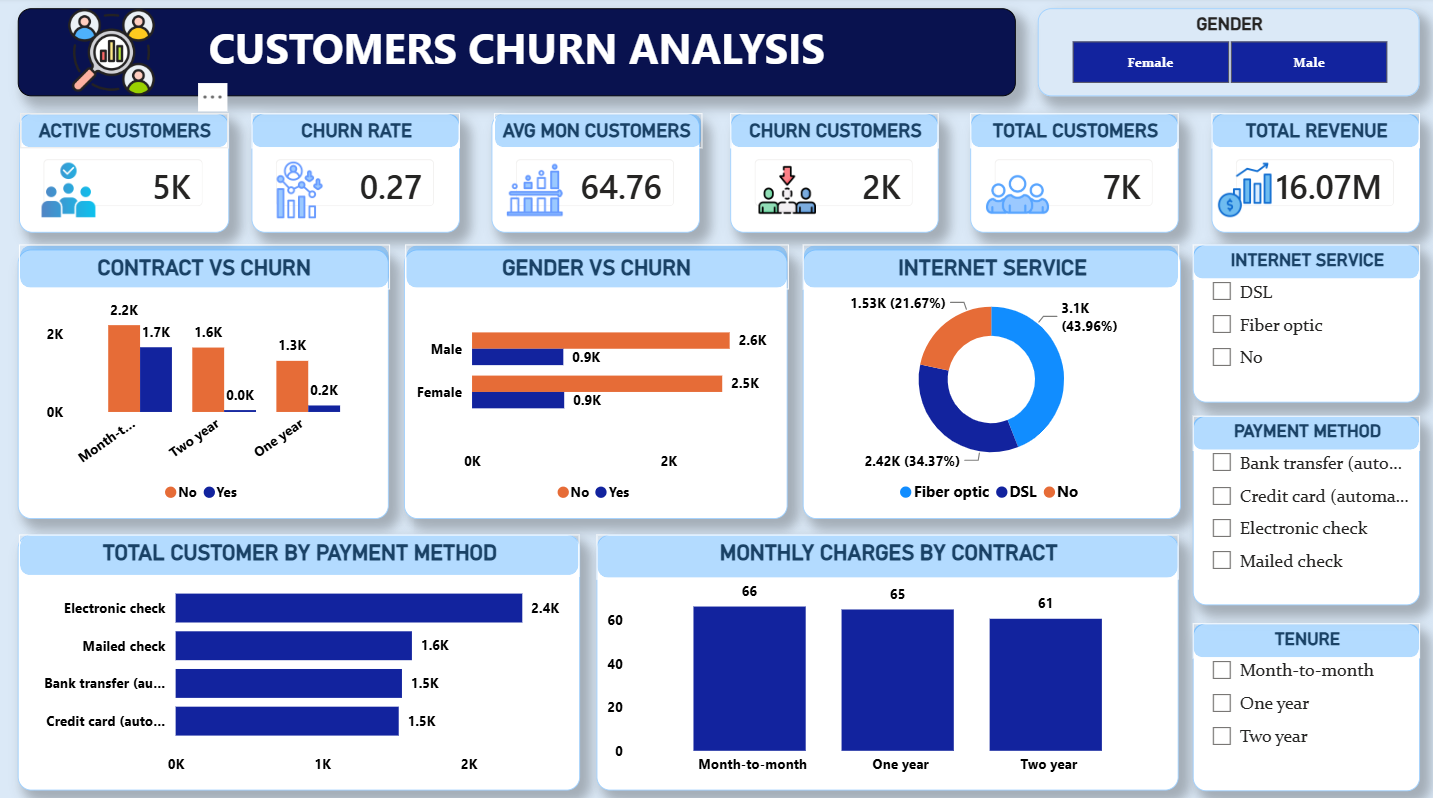

The page's visual inventory and layout, read from the dashboard file:
{"tool":"powerbi","page":{"name":"Page 1","canvas":[1280,720],"ordinal":0},"visuals":[{"type":"cardVisual","title":"ACTIVE CUSTOMERS","fields":{"Data":["customer_churn_clean.Active Customers"]},"box":[18.1,103.8,187,106.2],"z":0},{"type":"cardVisual","title":"CHURN RATE","fields":{"Data":["customer_churn_clean.Churn Rate %"]},"box":[224.4,103.8,185.8,106.2],"z":1000},{"type":"cardVisual","title":"AVG MON CUSTOMERS","fields":{"Data":["customer_churn_clean.Average Monthly Charges"]},"box":[439.1,103.8,185.8,106.2],"z":2000},{"type":"cardVisual","title":"CHURN CUSTOMERS","fields":{"Data":["customer_churn_clean.Churn Customers"]},"box":[651.5,103.8,185.8,106.2],"z":3000},{"type":"cardVisual","title":"TOTAL CUSTOMERS","fields":{"Data":["customer_churn_clean.Total Customers"]},"box":[865,103.8,185.8,106.2],"z":4000},{"type":"cardVisual","title":"TOTAL REVENUE","fields":{"Data":["customer_churn_clean.Total Revenue"]},"box":[1079.8,103.8,185.8,106.2],"z":5000},{"type":"clusteredColumnChart","title":"CONTRACT VS CHURN","fields":{"Category":["customer_churn_clean.Contract"],"Series":["customer_churn_clean.Churn"],"Y":["Count(customer_churn_clean.customerID)"]},"box":[16.9,224.4,330.6,240.1],"z":6000},{"type":"clusteredBarChart","title":"GENDER VS CHURN","fields":{"Category":["customer_churn_clean.gender"],"Series":["customer_churn_clean.Churn"],"Y":["Count(customer_churn_clean.customerID)"]},"box":[360.7,224.4,341.4,240.1],"z":7000},{"type":"donutChart","title":"INTERNET SERVICE","fields":{"Category":["customer_churn_clean.InternetService"],"Y":["CountNonNull(customer_churn_clean.customerID)"]},"box":[715.4,224.4,336.6,240.1],"z":8000},{"type":"clusteredBarChart","title":"TOTAL CUSTOMER BY PAYMENT METHOD","fields":{"Category":["customer_churn_clean.PaymentMethod"],"Y":["CountNonNull(customer_churn_clean.customerID)"]},"box":[16.9,479,500.7,228],"z":9000},{"type":"clusteredColumnChart","title":"MONTHLY CHARGES BY CONTRACT","fields":{"Category":["customer_churn_clean.Contract"],"Y":["Avg(customer_churn_clean.MonthlyCharges)"]},"box":[532,479,518.8,228],"z":10000},{"type":"slicer","title":"GENDER","fields":{"Values":["customer_churn_clean.gender"]},"box":[925.3,9.7,340.2,78.4],"z":11000},{"type":"slicer","title":"TENURE","fields":{"Values":["customer_churn_clean.Contract"]},"box":[1062.9,557.4,202.7,149.6],"z":12000},{"type":"slicer","title":"INTERNET SERVICE","fields":{"Values":["customer_churn_clean.InternetService"]},"box":[1062.9,220.8,202.7,141.2],"z":13000},{"type":"slicer","title":"PAYMENT METHOD","fields":{"Values":["customer_churn_clean.PaymentMethod"]},"box":[1062.9,372.8,202.7,168.9],"z":14000},{"type":"textbox","box":[16.9,9.7,889.1,78.4],"z":15000},{"type":"shape","box":[18.1,220.8,330.6,39.8],"z":16000},{"type":"shape","title":"GENDER BY CHURN","box":[361.9,220.8,341.4,39.8],"z":17000},{"type":"shape","box":[715.4,220.8,335.4,39.8],"z":18000},{"type":"shape","box":[532,479,518.8,39.8],"z":19000},{"type":"shape","box":[18.1,479,499.5,37.4],"z":20000},{"type":"image","box":[32.6,146,59.1,51.9],"z":21000},{"type":"image","box":[873.5,146,66.4,60.3],"z":22000},{"type":"image","box":[672,146,59.1,51.9],"z":23000},{"type":"image","box":[447.6,146,59.1,51.9],"z":24000},{"type":"image","box":[237.7,146,59.1,51.9],"z":25000},{"type":"image","box":[1079.8,146,59.1,51.9],"z":26000},{"type":"shape","box":[1062.9,220.8,202.7,31.4],"z":27000},{"type":"shape","box":[1062.9,372.8,202.7,31.4],"z":28000},{"type":"shape","box":[1062.9,557.4,202.7,31.4],"z":29000},{"type":"image","box":[18.1,9.7,164.1,78.4],"z":30000},{"type":"shape","box":[1079.8,103.8,185.8,31.4],"z":31000},{"type":"shape","box":[19.3,103.8,185.8,31.4],"z":32000},{"type":"shape","box":[865,103.8,185.8,31.4],"z":33000},{"type":"shape","box":[440.4,103.8,185.8,31.4],"z":34000},{"type":"shape","box":[651.5,103.8,185.8,31.4],"z":35000},{"type":"shape","box":[224.4,103.8,185.8,31.4],"z":36000}]}

Visuals, with their boxes in screenshot pixels (x1, y1, x2, y2), scaled from the page's 1280x720 canvas onto the 1433x798 screenshot:
"ACTIVE CUSTOMERS" cardVisual: 20 115 230 233
"CHURN RATE" cardVisual: 251 115 459 233
"AVG MON CUSTOMERS" cardVisual: 492 115 700 233
"CHURN CUSTOMERS" cardVisual: 729 115 937 233
"TOTAL CUSTOMERS" cardVisual: 968 115 1176 233
"TOTAL REVENUE" cardVisual: 1209 115 1417 233
"CONTRACT VS CHURN" clusteredColumnChart: 19 249 389 515
"GENDER VS CHURN" clusteredBarChart: 404 249 786 515
"INTERNET SERVICE" donutChart: 801 249 1178 515
"TOTAL CUSTOMER BY PAYMENT METHOD" clusteredBarChart: 19 531 579 784
"MONTHLY CHARGES BY CONTRACT" clusteredColumnChart: 596 531 1176 784
"GENDER" slicer: 1036 11 1417 98
"TENURE" slicer: 1190 618 1417 784
"INTERNET SERVICE" slicer: 1190 245 1417 401
"PAYMENT METHOD" slicer: 1190 413 1417 600
textbox: 19 11 1014 98
shape: 20 245 390 289
"GENDER BY CHURN" shape: 405 245 787 289
shape: 801 245 1176 289
shape: 596 531 1176 575
shape: 20 531 579 572
image: 36 162 103 219
image: 978 162 1052 229
image: 752 162 818 219
image: 501 162 567 219
image: 266 162 332 219
image: 1209 162 1275 219
shape: 1190 245 1417 280
shape: 1190 413 1417 448
shape: 1190 618 1417 653
image: 20 11 204 98
shape: 1209 115 1417 150
shape: 22 115 230 150
shape: 968 115 1176 150
shape: 493 115 701 150
shape: 729 115 937 150
shape: 251 115 459 150
